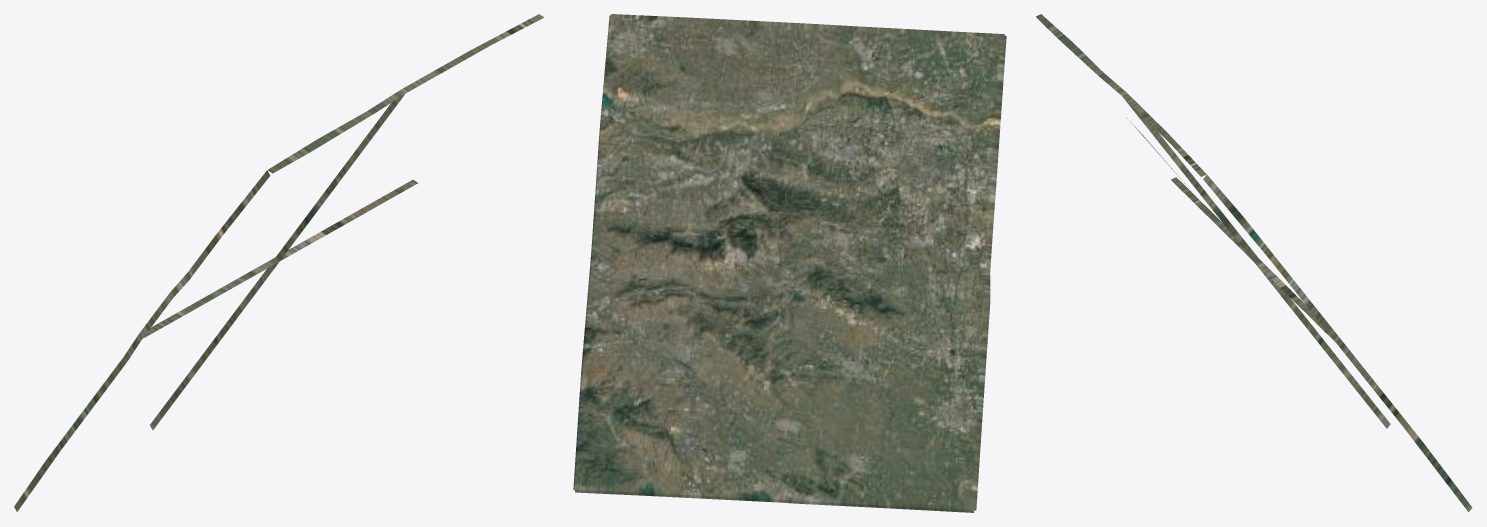
The picture shows the model from 3 angles, left to right: view 1: azimuth 30°, elevation 25°; view 2: azimuth 150°, elevation 25°; view 3: azimuth 270°, elevation 25°; orthographic projection. The views are drawn at different scales.
Bounding box in the file's own units: 154830 × 131622 × 135005.
Materials: 1 (1 with a texture image).
